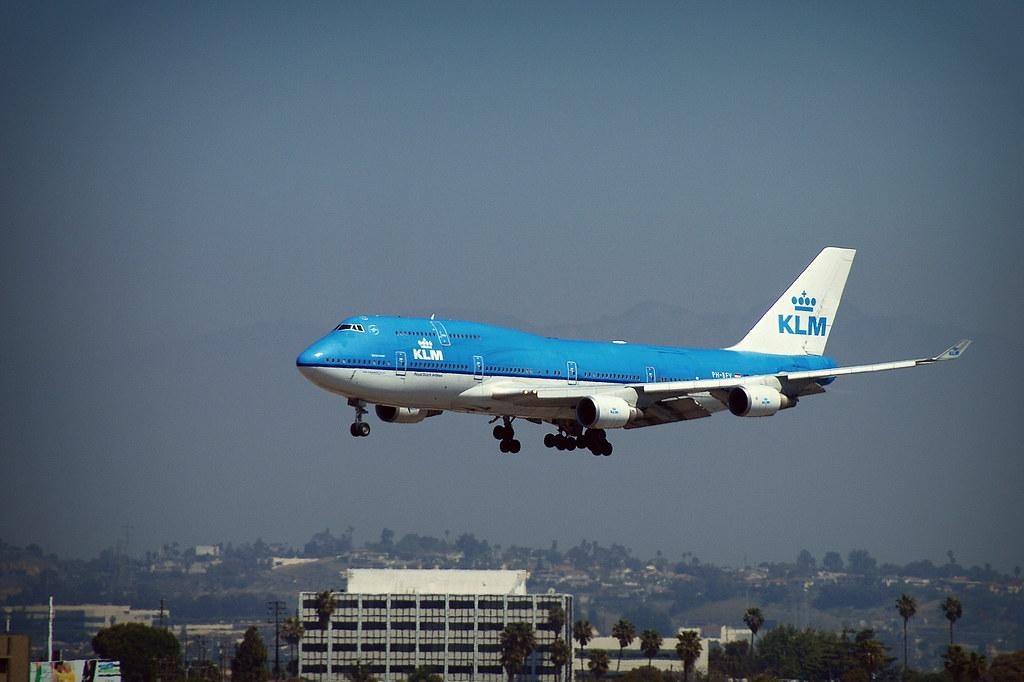plane: (295, 245, 973, 457)
